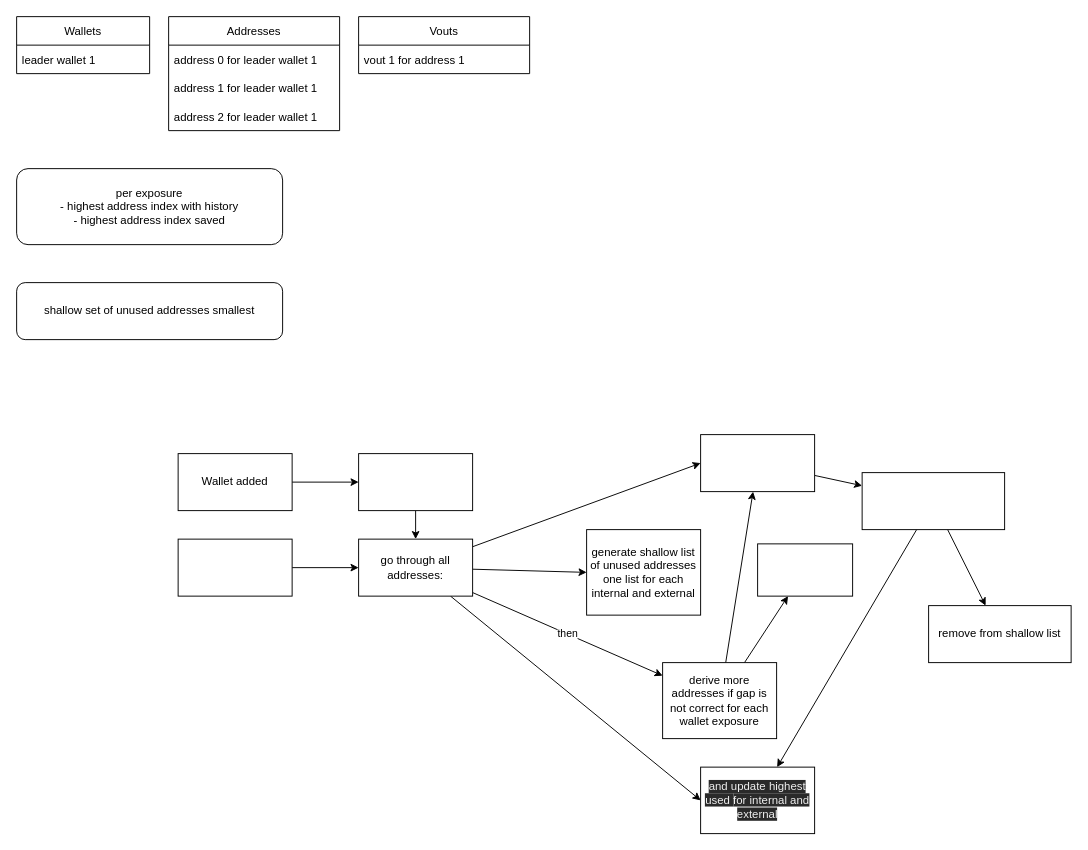
Image size: 1088x850. Some labels were removed from this diagram. Here are the shapes that lost their labels. From the top down, the centre of each, then its label:
pixel 415 482: if wallet shallow list empty
pixel 757 463: subscribe to every address
pixel 933 501: on used status update
pixel 234 567: Wallet loaded
pixel 805 569: add new highest saved
